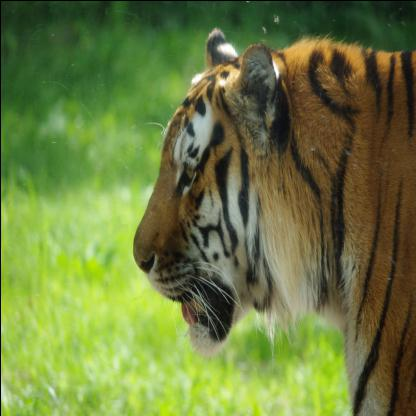tiger: (120, 27, 296, 364)
